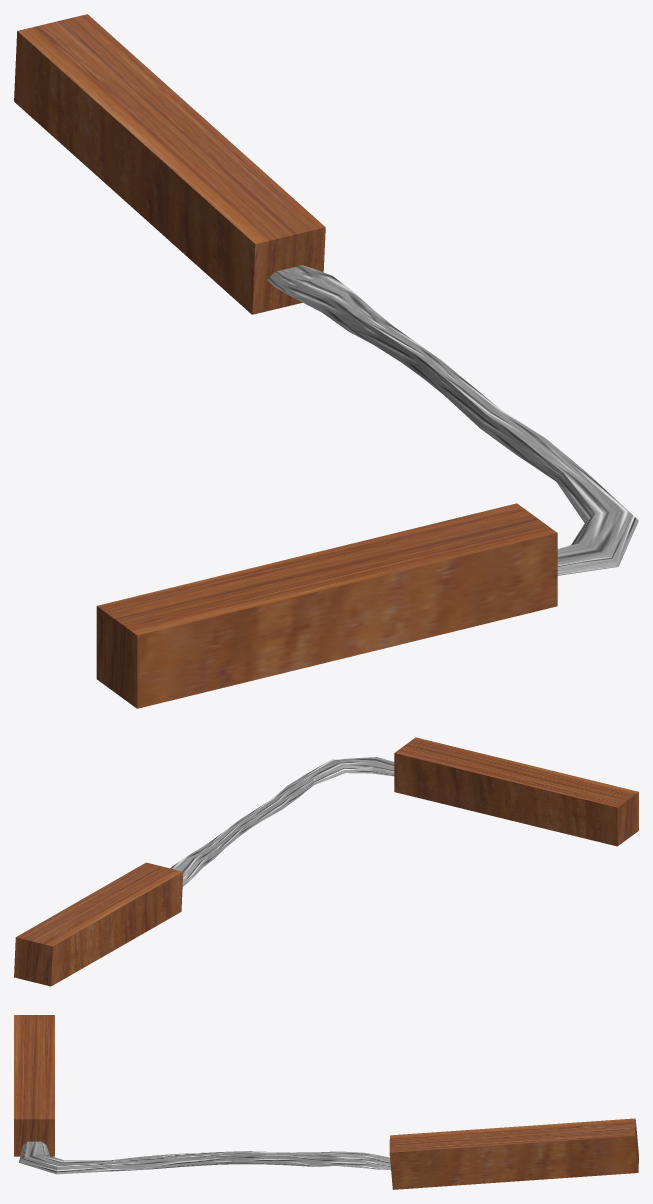
File: Nunchaku2.glb
The picture shows the model from 3 angles, top to bottom: view 1: azimuth 30°, elevation 25°; view 2: azimuth 150°, elevation 25°; view 3: azimuth 270°, elevation 25°; orthographic projection. The views are drawn at different scales.
Parts seen in each view (by area): view 1: Nunchaku; view 2: Nunchaku; view 3: Nunchaku.
Part boxes in pixels (x1,y1,x2,y2): Nunchaku: (14,14,638,708); Nunchaku: (14,737,638,986); Nunchaku: (14,1015,638,1189).
Size of the model in its own units: 0.4009 by 0.075 by 0.76.
Materials: 1 (1 with a texture image).
